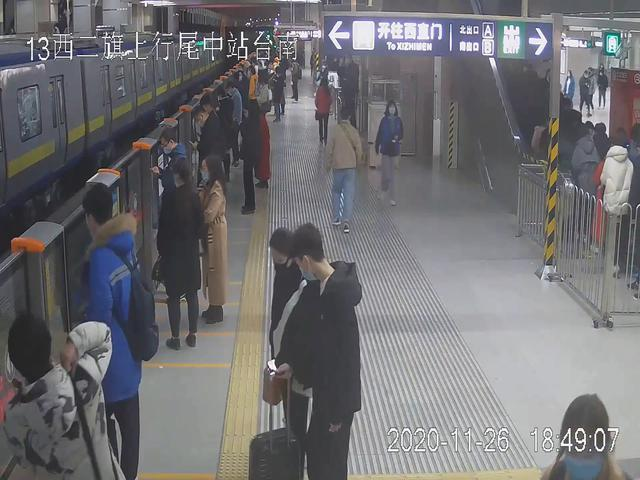person: (75, 183, 152, 480), (2, 311, 116, 480), (293, 222, 365, 480), (258, 227, 313, 480), (154, 155, 199, 351), (194, 156, 227, 326), (328, 109, 362, 231), (193, 106, 225, 223), (375, 101, 405, 208), (235, 102, 262, 213), (312, 77, 334, 147)
